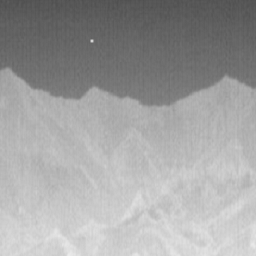Target: (89, 38, 95, 44)
